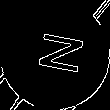N_W: (26, 31, 84, 79)
